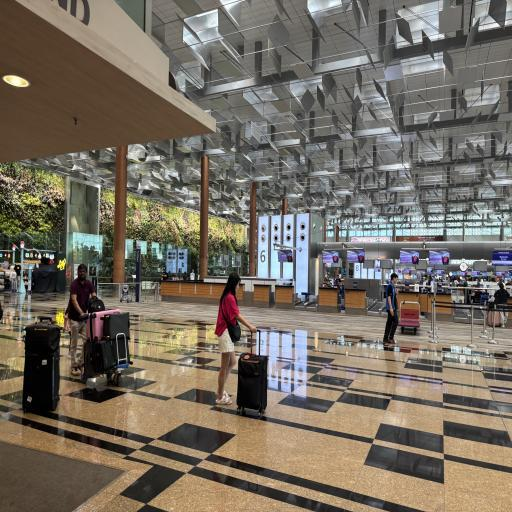person_with_luggage_right: (212, 266, 270, 418)
